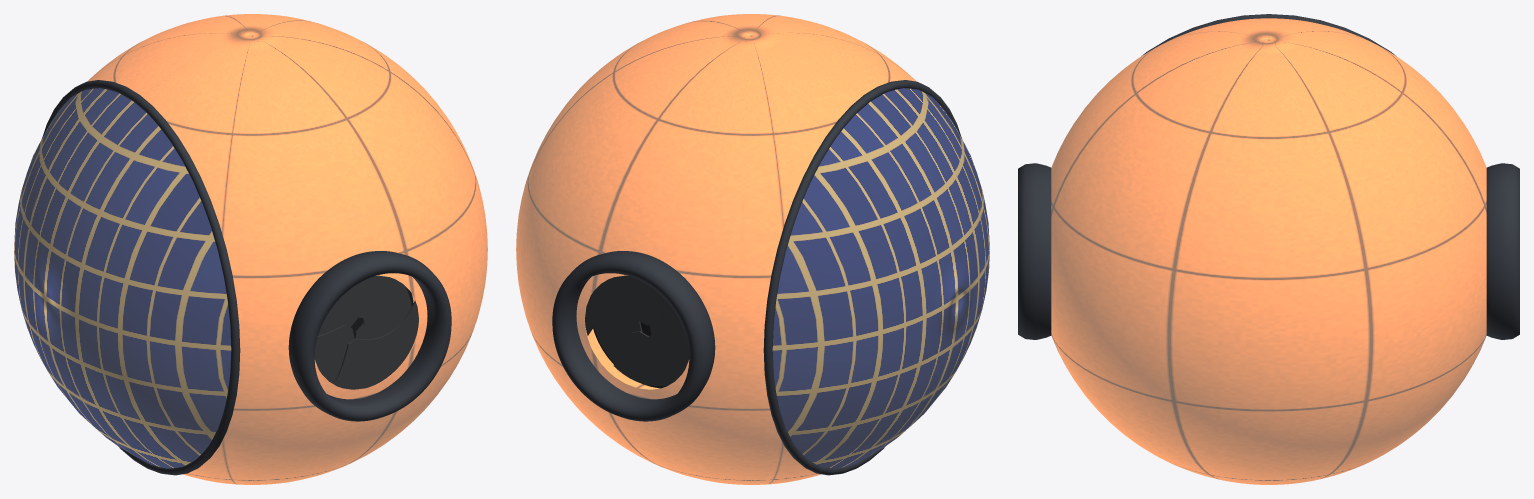
File: collector.glb
3 renders of one model, left to right at view 1: azimuth 30°, elevation 25°; view 2: azimuth 150°, elevation 25°; view 3: azimuth 270°, elevation 25°, orthographic.
Parts seen in each view (by area): view 1: CollectorBody, CollectorSolar, CollectorStarboardCuff, CollectorSolarBezel, CollectorStarboardIris.005, CollectorStarboardIris.001, CollectorStarboardIris.004, CollectorStarboardIris.002, CollectorStarboardIris.003, CollectorStarboardIris.000; view 2: CollectorBody, CollectorSolar, CollectorPortCuff, CollectorSolarBezel, CollectorPortIris.005, CollectorPortIris.002, CollectorPortIris.001, CollectorPortIris.003, CollectorPortIris.004; view 3: CollectorBody, CollectorPortCuff, CollectorStarboardCuff, CollectorSolarBezel.
Boxes of the visible parts, box(x1,y1,x2,y2) form: CollectorBody: box(87, 14, 487, 484); CollectorSolar: box(14, 88, 231, 468); CollectorStarboardCuff: box(288, 251, 451, 421); CollectorSolarBezel: box(42, 80, 240, 475); CollectorStarboardIris.005: box(332, 300, 418, 389); CollectorStarboardIris.001: box(362, 276, 411, 329); CollectorStarboardIris.004: box(314, 324, 354, 383); CollectorStarboardIris.002: box(343, 275, 384, 318); CollectorStarboardIris.003: box(318, 295, 358, 335); CollectorStarboardIris.000: box(354, 316, 405, 339); CollectorBody: box(516, 14, 916, 484); CollectorSolar: box(772, 88, 989, 468); CollectorPortCuff: box(552, 251, 715, 421); CollectorSolarBezel: box(763, 80, 961, 475); CollectorPortIris.005: box(585, 275, 664, 335); CollectorPortIris.002: box(613, 331, 667, 386); CollectorPortIris.001: box(594, 315, 642, 364); CollectorPortIris.003: box(645, 335, 689, 385); CollectorPortIris.004: box(649, 300, 687, 343); CollectorBody: box(1051, 18, 1486, 484); CollectorPortCuff: box(1486, 163, 1519, 339); CollectorStarboardCuff: box(1018, 163, 1051, 339); CollectorSolarBezel: box(1142, 14, 1395, 55).
Size of the model in its own units: 2.01 by 2 by 2.15.
Materials: 5 (2 with a texture image).
